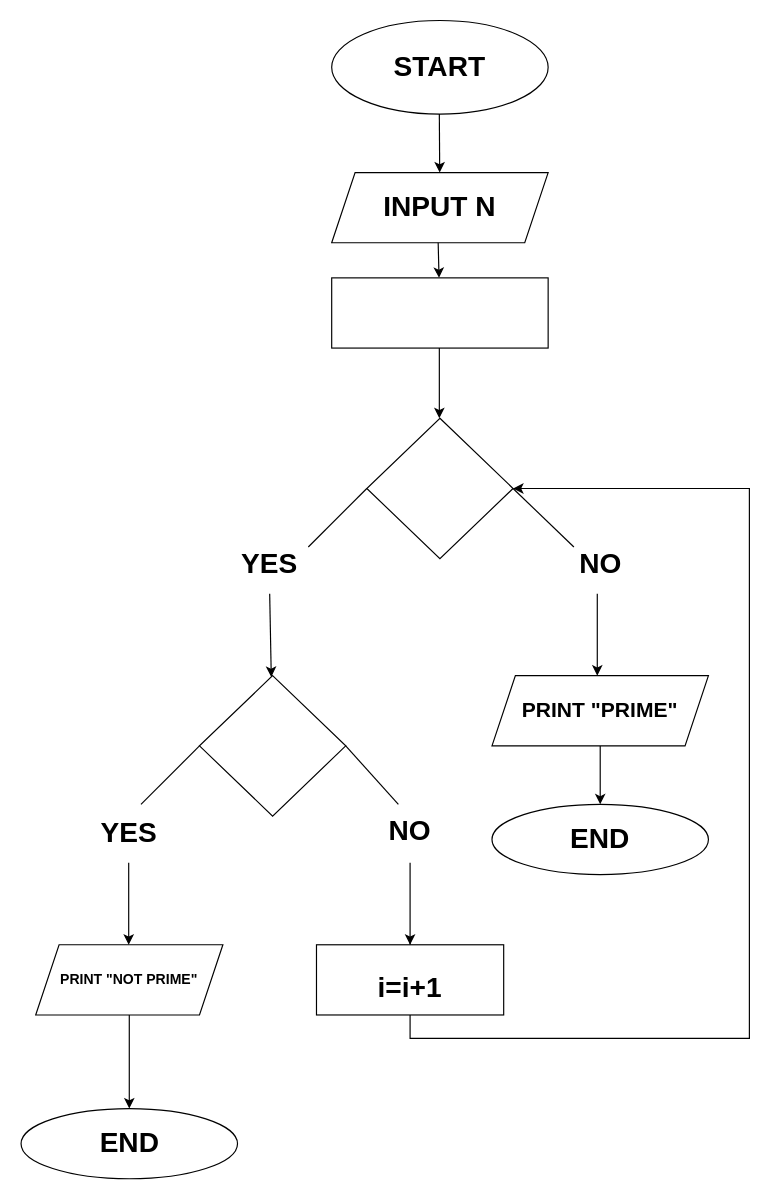
The diagram is 779 pixels wide and 1199 high, and some of its shapes have lost their labels. The shapes that lost their labels are listed below. From the top down, each one's centre as x and y in pixels, then its label:
At (439,312): "i=2".
At (439,488): "i<=√N".
At (272,745): "N%i==0".
